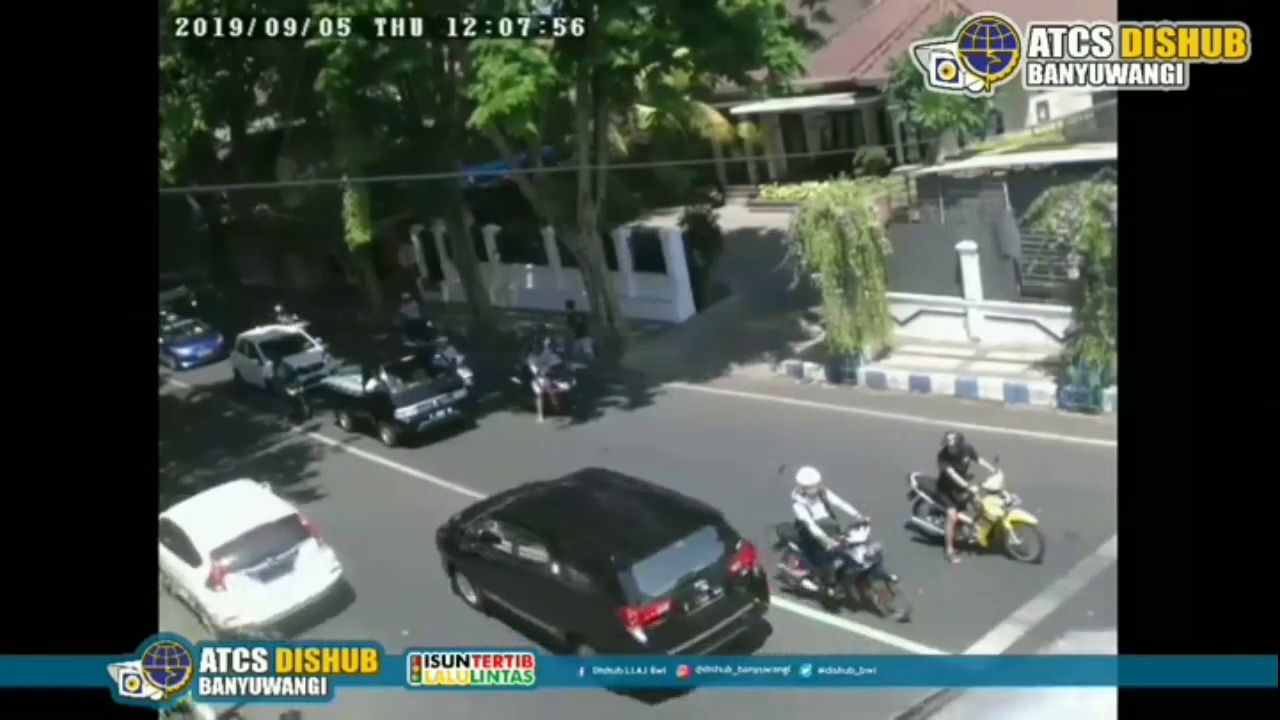car: (442, 477, 773, 677), (163, 475, 341, 636), (326, 345, 472, 452), (232, 318, 329, 394), (158, 315, 228, 372)
motorbike: (779, 468, 910, 627), (912, 432, 1049, 566), (508, 334, 580, 419), (264, 354, 311, 419), (434, 332, 475, 404)
